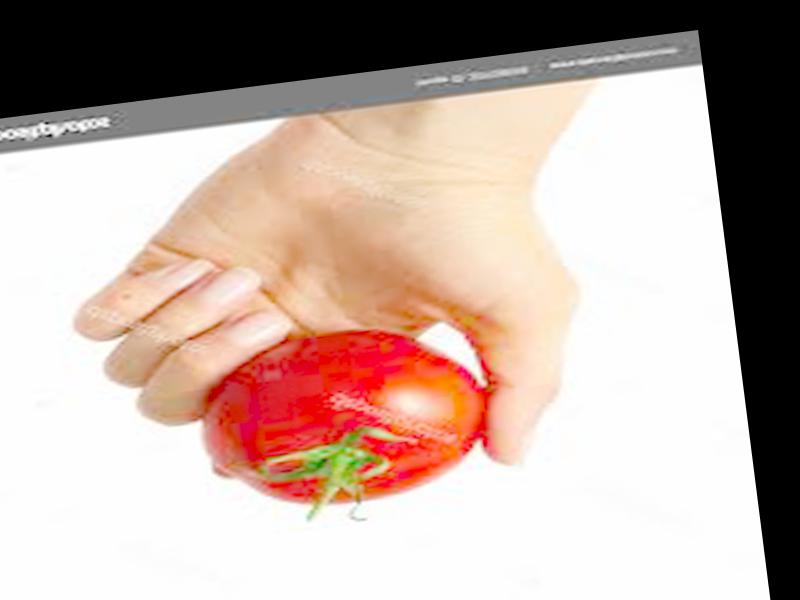Tomato: (197, 313, 495, 521)
